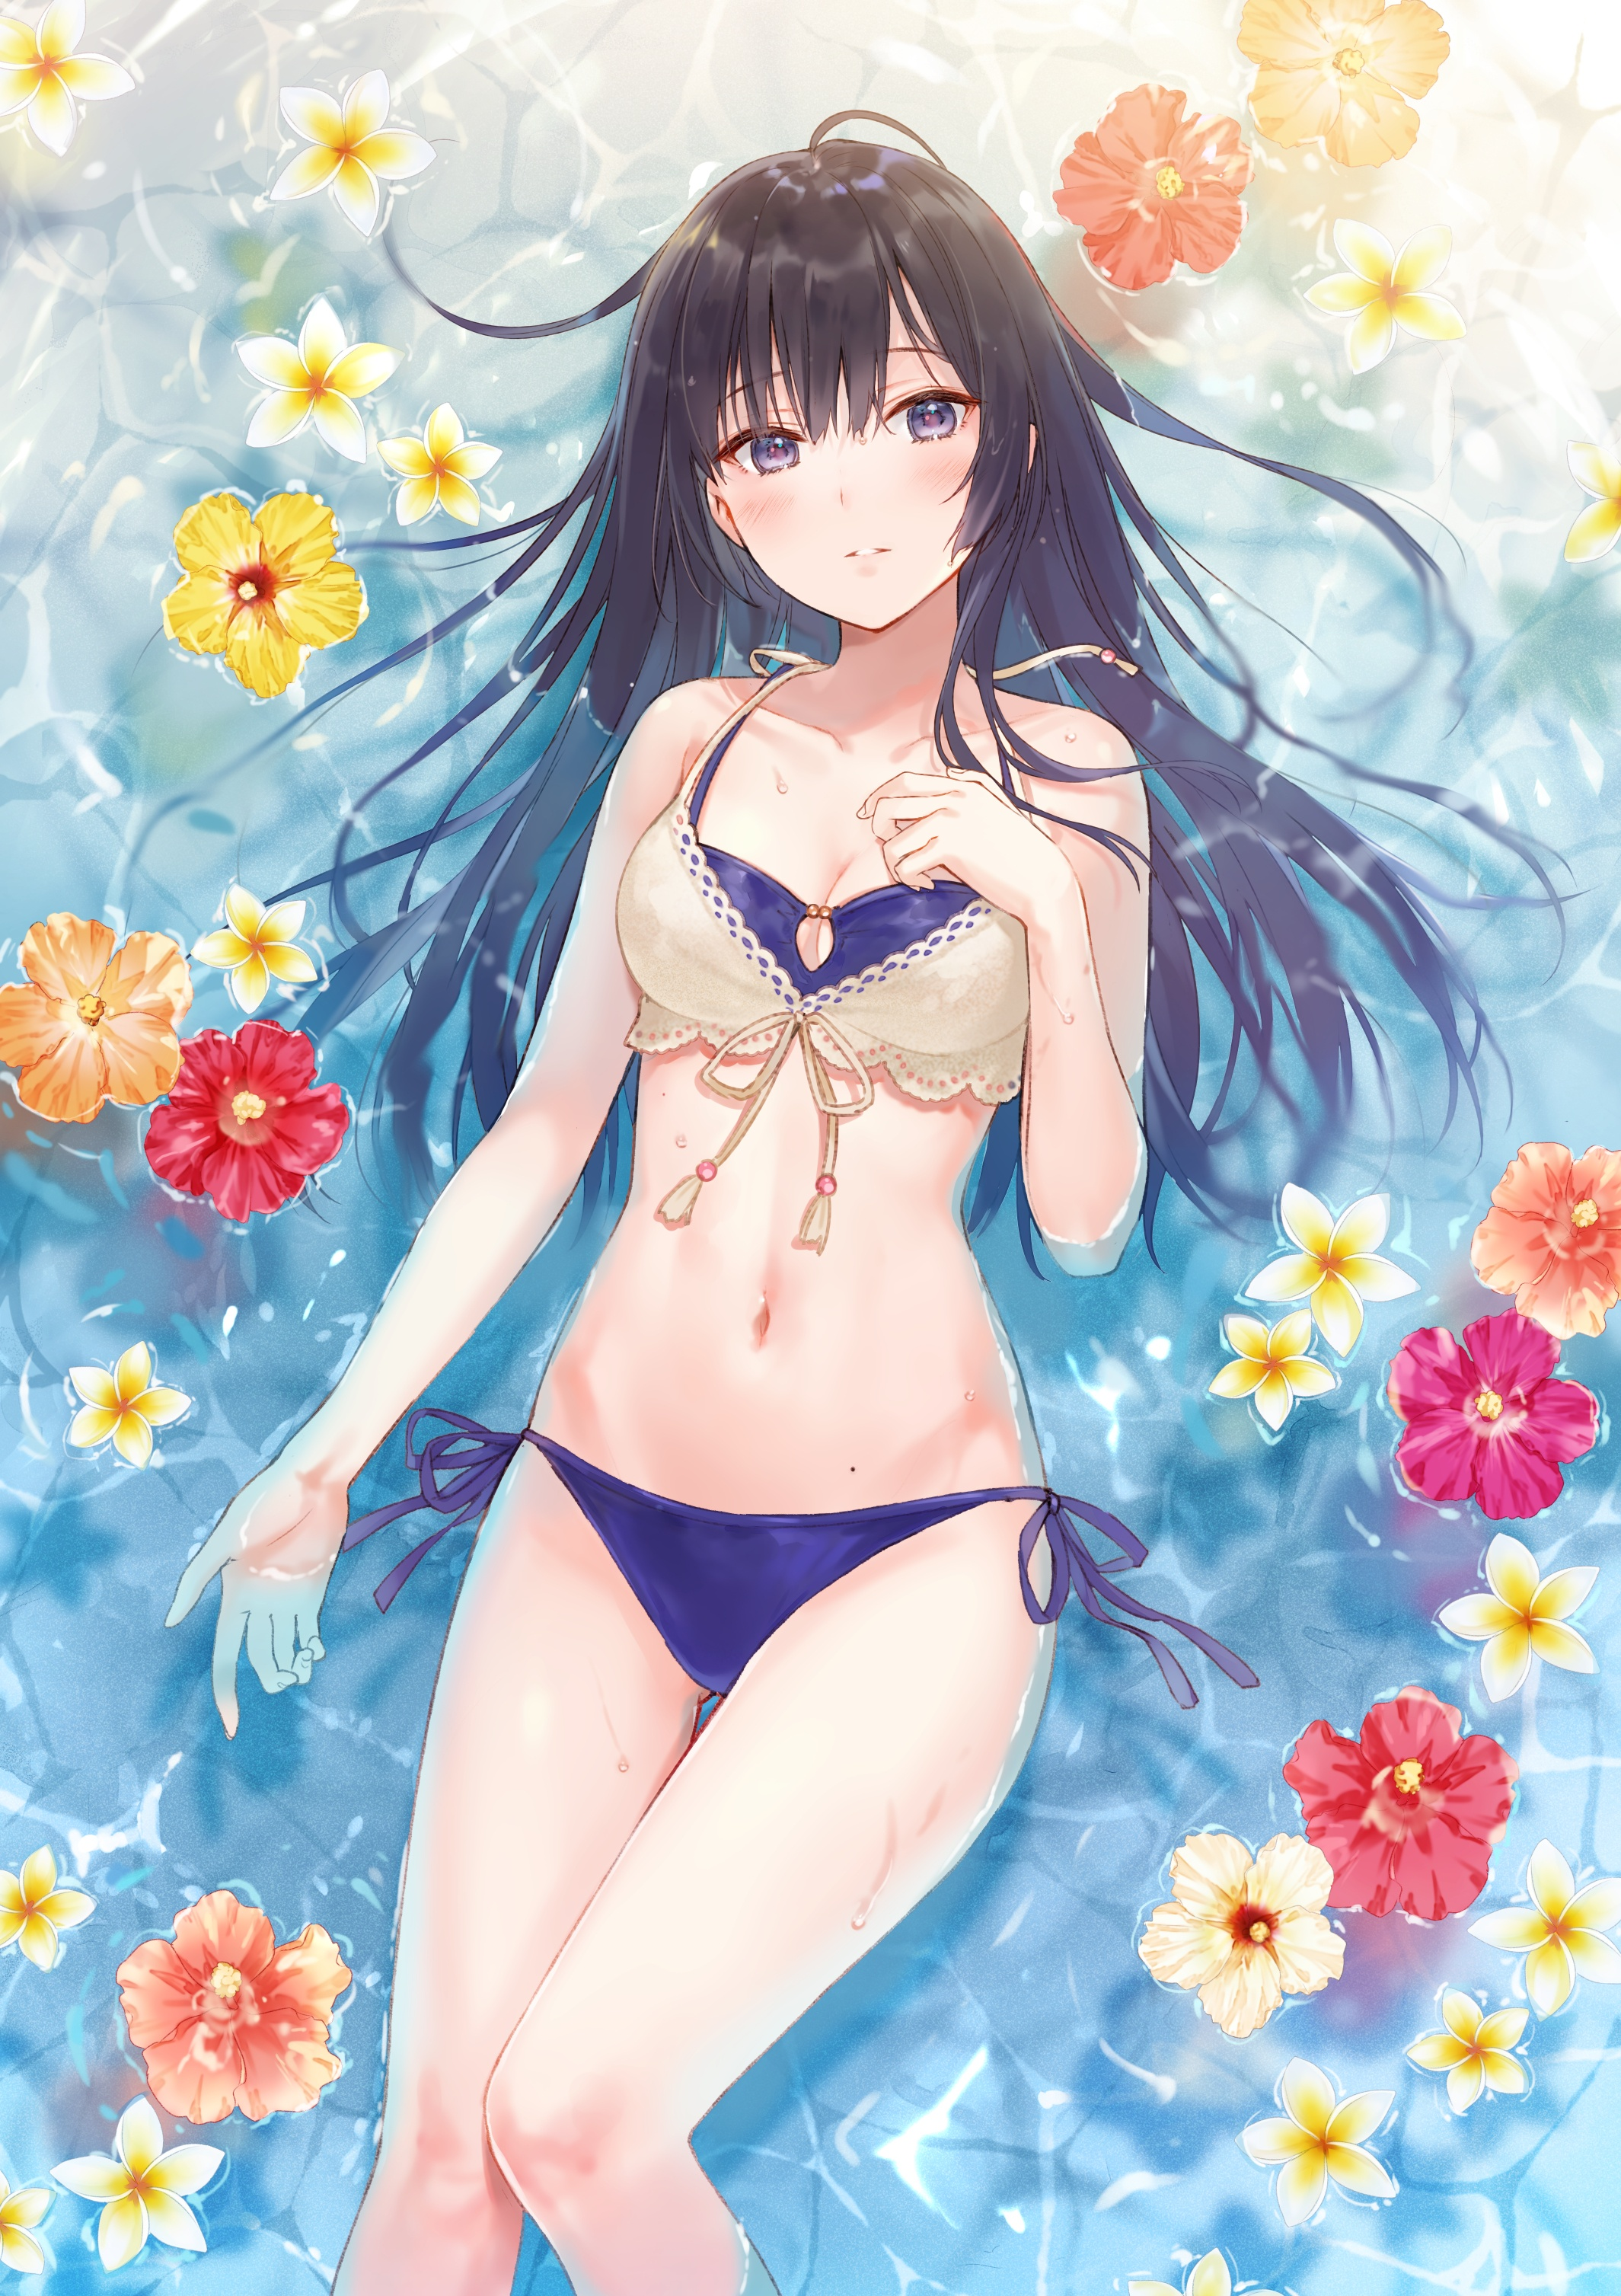纸片人正脸: (598, 113, 1091, 648)
